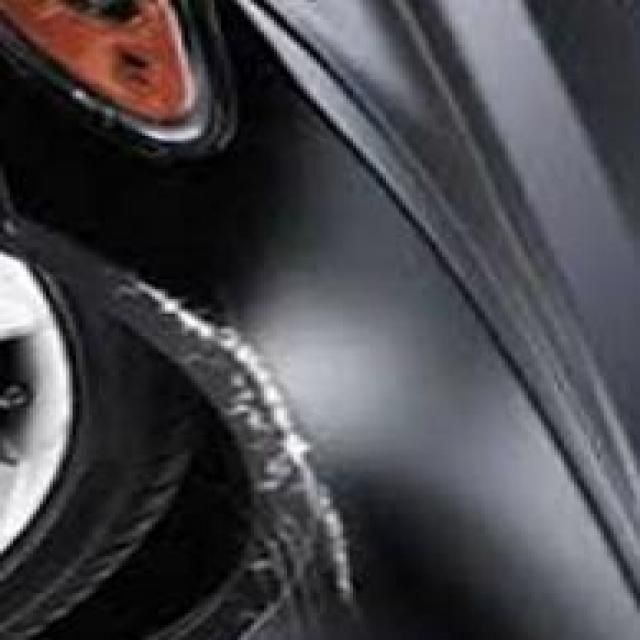scratch: (79, 234, 382, 640)
